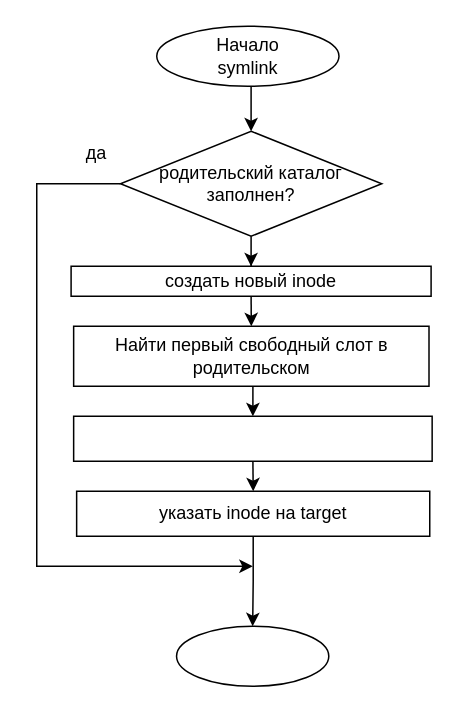
Some shapes in this 459 by 713 pixel diagram are drawn without their labels. The centre of each missing label's shape, as x and y in pixels:
заполнить слот значением inode: the point at 252,438
конец: the point at 252,655
